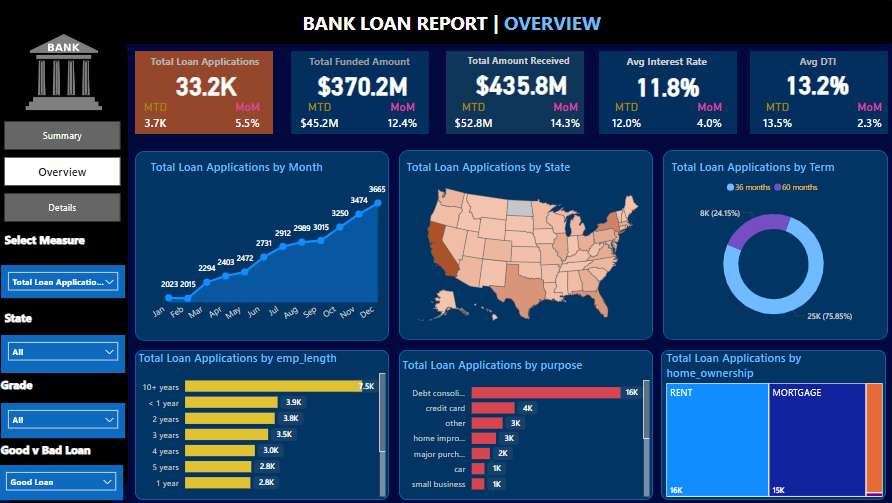

The page's visual inventory and layout, read from the dashboard file:
{"tool":"powerbi","page":{"name":"Overview","canvas":[1280,720],"ordinal":1},"visuals":[{"type":"shape","box":[0,32.6,189.9,687.4],"z":0},{"type":"shape","box":[199.8,73.7,195.6,117.6],"z":1000},{"type":"shape","box":[640.6,73.7,195.6,117.6],"z":2000},{"type":"shape","box":[0,0,1280,63.8],"z":3000},{"type":"textbox","box":[432.3,9.9,620.8,87.9],"z":4000},{"type":"card","fields":{"Values":["Bank_Loan_Data.Total Loan Applications"]},"box":[199.8,85,201.3,72.3],"z":5000},{"type":"textbox","box":[216.9,73.7,181.4,53.9],"z":6000},{"type":"card","title":"MTD","fields":{"Values":["Bank_Loan_Data.MTD Loan Applications"]},"box":[189.9,143.1,78,48.2],"z":7000},{"type":"card","title":"MoM","fields":{"Values":["Bank_Loan_Data.MoM Loan Applicaions"]},"box":[320.3,143.1,78,48.2],"z":8000},{"type":"shape","box":[420.9,73.7,195.6,117.6],"z":9000},{"type":"card","title":"MTD","fields":{"Values":["Bank_Loan_Data.MTD Funded Amount"]},"box":[422.4,143.1,78,48.2],"z":10000},{"type":"card","title":"MoM","fields":{"Values":["Bank_Loan_Data.MoM Total Funded Amount"]},"box":[540,143.1,78,48.2],"z":11000},{"type":"card","fields":{"Values":["Bank_Loan_Data.Total Funded Amount"]},"box":[378.4,85,287.7,72.3],"z":12000},{"type":"textbox","box":[432.3,73.7,171.5,59.5],"z":13000},{"type":"shape","box":[640.6,73.7,195.6,117.6],"z":14000},{"type":"shape","box":[857.5,73.7,195.6,117.6],"z":15000},{"type":"shape","box":[1071.5,73.7,195.6,117.6],"z":16000},{"type":"card","fields":{"Values":["Bank_Loan_Data.Total Amoutn Recieved"]},"box":[603.8,89.3,287.7,59.5],"z":17000},{"type":"card","fields":{"Values":["Bank_Loan_Data.Avg Interest Rate"]},"box":[810.7,92.1,287.7,59.5],"z":18000},{"type":"card","fields":{"Values":["Bank_Loan_Data.Avg DTI"]},"box":[1053.1,89.3,226.8,59.5],"z":19000},{"type":"card","title":"MTD","fields":{"Values":["Bank_Loan_Data.MTD Avg DTI"]},"box":[1071.5,143.1,78,48.2],"z":20000},{"type":"card","title":"MTD","fields":{"Values":["Bank_Loan_Data.MTD Avg Interest Rate"]},"box":[857.5,143.1,78,48.2],"z":21000},{"type":"card","title":"MTD","fields":{"Values":["Bank_Loan_Data.MTD Total Amount Recieved"]},"box":[640.6,143.1,78,48.2],"z":22000},{"type":"card","title":"MoM","fields":{"Values":["Bank_Loan_Data.MoM Total Amount Recieved"]},"box":[771,143.1,78,48.2],"z":23000},{"type":"card","title":"MoM","fields":{"Values":["Bank_Loan_Data.MoM Avg Interest Rate"]},"box":[975.1,143.1,78,48.2],"z":24000},{"type":"card","title":"MoM","fields":{"Values":["Bank_Loan_Data.MoM Avg DTI"]},"box":[1201.9,143.1,78,48.2],"z":25000},{"type":"textbox","box":[666.1,73.7,175.7,59.5],"z":26000},{"type":"textbox","box":[891.5,73.7,180,29.8],"z":27000},{"type":"textbox","box":[1136.7,73.7,130.4,228.2],"z":28000},{"type":"shape","box":[199.8,215.4,360,269.3],"z":29000},{"type":"textbox","box":[229.6,226.8,250.9,36.9],"z":30000},{"type":"textbox","box":[771,226.8,266.5,36.9],"z":31000},{"type":"textbox","box":[199.8,497.5,1067.2,32.6],"z":32000},{"type":"slicer","fields":{"Values":["Bank_Loan_Data.address_state"]},"box":[9.9,476.2,175.7,53.9],"z":33000},{"type":"slicer","fields":{"Values":["Bank_Loan_Data.grade"]},"box":[9.9,572.6,175.7,49.6],"z":34000},{"type":"slicer","fields":{"Values":["Bank_Loan_Data.Good vs Bad Loan"]},"box":[7.1,660.5,175.7,49.6],"z":35000},{"type":"textbox","box":[9.9,435.1,56.7,41.1],"z":36000},{"type":"textbox","box":[0,622.2,175.7,38.3],"z":37000},{"type":"textbox","box":[0,530.1,185.7,42.5],"z":38000},{"type":"slicer","fields":{"Values":["Select Measure.Select Measure"]},"box":[9.9,377,175.7,46.8],"z":39000},{"type":"textbox","box":[9.9,324.6,165.8,35.4],"z":40000},{"type":"areaChart","fields":{"Y":["Bank_Loan_Data.Total Loan Applications"],"Category":["Date Table.Month"]},"box":[216.9,226.8,343,249.4],"z":41000},{"type":"shape","box":[574,214,360,269.3],"z":42000},{"type":"shapeMap","fields":{"Value":["Bank_Loan_Data.Total Loan Applications"],"Category":["Bank_Loan_Data.address_state"]},"box":[579.7,226.8,355.7,249.4],"z":43000},{"type":"shape","box":[948.2,214,318.9,269.3],"z":44000},{"type":"donutChart","fields":{"Y":["Bank_Loan_Data.Total Loan Applications"],"Category":["Bank_Loan_Data.term"]},"box":[955.3,226.8,299.1,249.4],"z":45000},{"type":"shape","box":[199.8,497.5,360,212.6],"z":46000},{"type":"clusteredBarChart","fields":{"Y":["Bank_Loan_Data.Total Loan Applications"],"Category":["Bank_Loan_Data.emp_length"]},"box":[199.8,497.5,360,212.6],"z":47000},{"type":"shape","box":[574,497.5,360,212.6],"z":48000},{"type":"barChart","fields":{"Y":["Bank_Loan_Data.Total Loan Applications"],"Category":["Bank_Loan_Data.purpose"]},"box":[574,507.4,360,202.7],"z":49000},{"type":"shape","box":[945.4,497.5,318.9,212.6],"z":50000},{"type":"treemap","fields":{"Values":["Bank_Loan_Data.Total Loan Applications"],"Group":["Bank_Loan_Data.home_ownership"]},"box":[948.2,497.5,316.1,212.6],"z":51000},{"type":"pageNavigator","box":[14.2,172.9,165.8,144.6],"z":52000},{"type":"image","box":[0,43.9,197,119.1],"z":53000}]}

Visuals, with their boxes in screenshot pixels (x1, y1, x2, y2), scaled from the page's 1280x720 canvas onto the 892x503 screenshot:
shape: 0/23/132/502
shape: 139/51/276/134
shape: 446/51/583/134
shape: 0/0/891/45
textbox: 301/7/734/68
card - Bank_Loan_Data.Total Loan Applications: 139/59/280/110
textbox: 151/51/278/89
"MTD" card: 132/100/187/134
"MoM" card: 223/100/278/134
shape: 293/51/430/134
"MTD" card: 294/100/349/134
"MoM" card: 376/100/431/134
card - Bank_Loan_Data.Total Funded Amount: 264/59/464/110
textbox: 301/51/421/93
shape: 446/51/583/134
shape: 598/51/734/134
shape: 747/51/883/134
card - Bank_Loan_Data.Total Amoutn Recieved: 421/62/621/104
card - Bank_Loan_Data.Avg Interest Rate: 565/64/765/106
card - Bank_Loan_Data.Avg DTI: 734/62/891/104
"MTD" card: 747/100/801/134
"MTD" card: 598/100/652/134
"MTD" card: 446/100/501/134
"MoM" card: 537/100/592/134
"MoM" card: 680/100/734/134
"MoM" card: 838/100/891/134
textbox: 464/51/587/93
textbox: 621/51/747/72
textbox: 792/51/883/211
shape: 139/150/390/339
textbox: 160/158/335/184
textbox: 537/158/723/184
textbox: 139/348/883/370
slicer - Bank_Loan_Data.address_state: 7/333/129/370
slicer - Bank_Loan_Data.grade: 7/400/129/435
slicer - Bank_Loan_Data.Good vs Bad Loan: 5/461/127/496
textbox: 7/304/46/333
textbox: 0/435/122/461
textbox: 0/370/129/400
slicer - Select Measure.Select Measure: 7/263/129/296
textbox: 7/227/122/252
areaChart - Bank_Loan_Data.Total Loan Applications x Date Table.Month: 151/158/390/333
shape: 400/150/651/338
shapeMap - Bank_Loan_Data.Total Loan Applications x Bank_Loan_Data.address_state: 404/158/652/333
shape: 661/150/883/338
donutChart - Bank_Loan_Data.Total Loan Applications x Bank_Loan_Data.term: 666/158/874/333
shape: 139/348/390/496
clusteredBarChart - Bank_Loan_Data.Total Loan Applications x Bank_Loan_Data.emp_length: 139/348/390/496
shape: 400/348/651/496
barChart - Bank_Loan_Data.Total Loan Applications x Bank_Loan_Data.purpose: 400/354/651/496
shape: 659/348/881/496
treemap - Bank_Loan_Data.Total Loan Applications x Bank_Loan_Data.home_ownership: 661/348/881/496
pageNavigator: 10/121/125/222
image: 0/31/137/114
